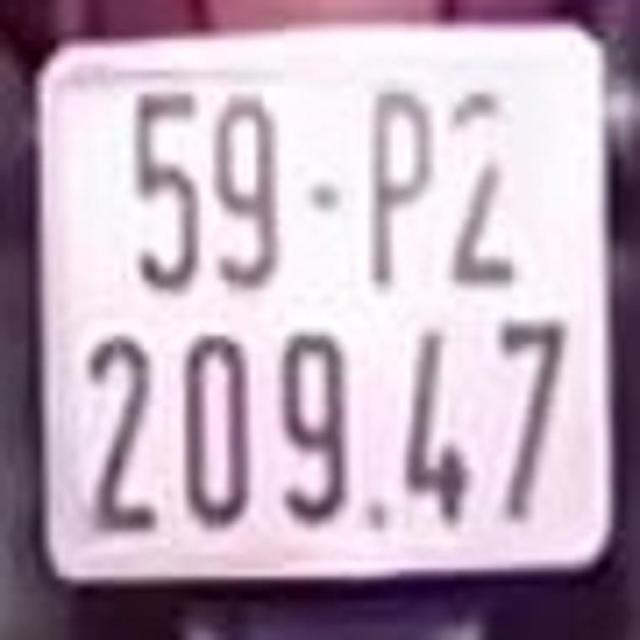0: (178, 322, 254, 529)
2: (443, 76, 522, 291), (83, 329, 159, 533)
4: (397, 315, 475, 528)
5: (128, 83, 205, 293)
7: (492, 305, 572, 524)
9: (210, 82, 284, 291), (277, 321, 349, 527)
P: (362, 76, 438, 292)
